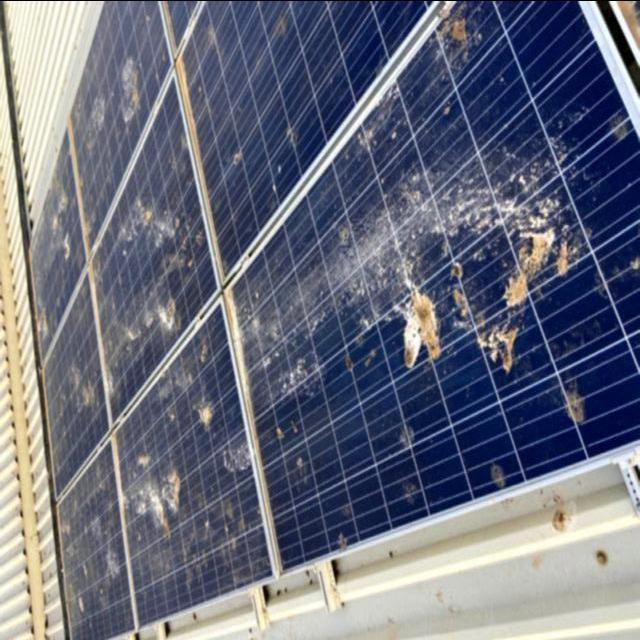soiled: (27, 0, 640, 621)
